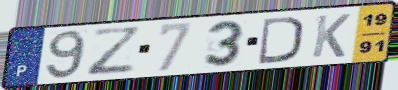3: (203, 18, 245, 69)
7: (156, 22, 197, 73)
9: (42, 29, 89, 81)
D: (257, 14, 305, 65)
K: (309, 12, 353, 59)
Z: (85, 25, 146, 78)
